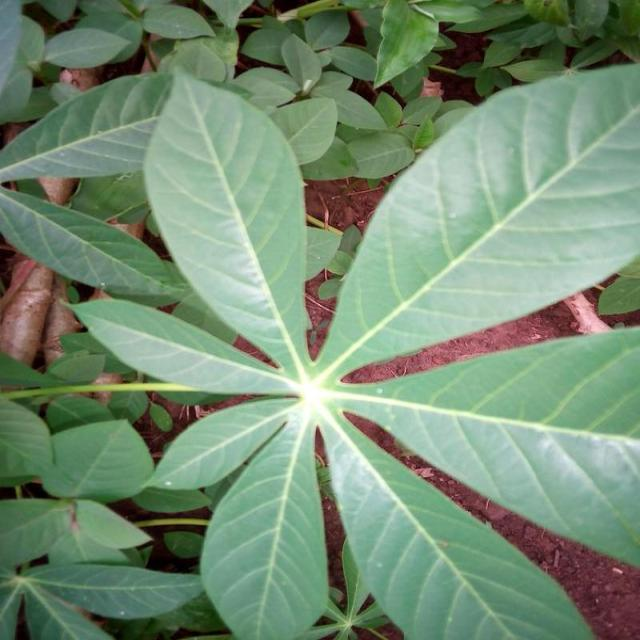cassava leaf: (4, 56, 639, 638), (314, 59, 640, 378), (143, 70, 311, 372)
